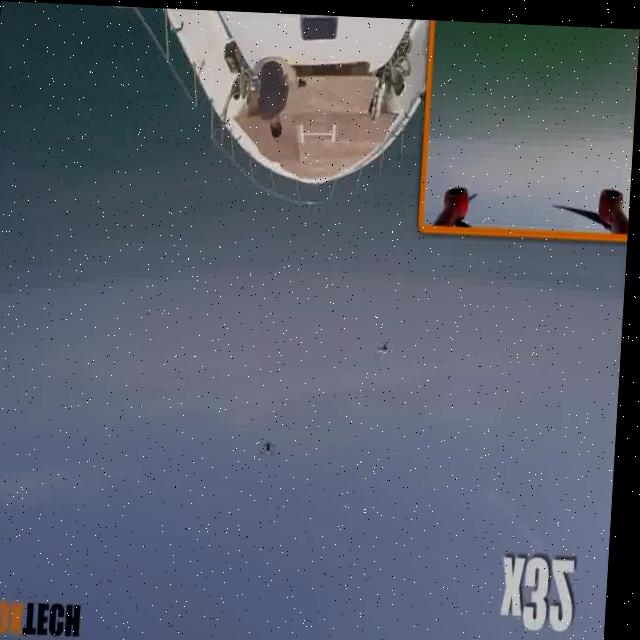drone: (258, 420, 287, 465), (373, 330, 404, 364)
